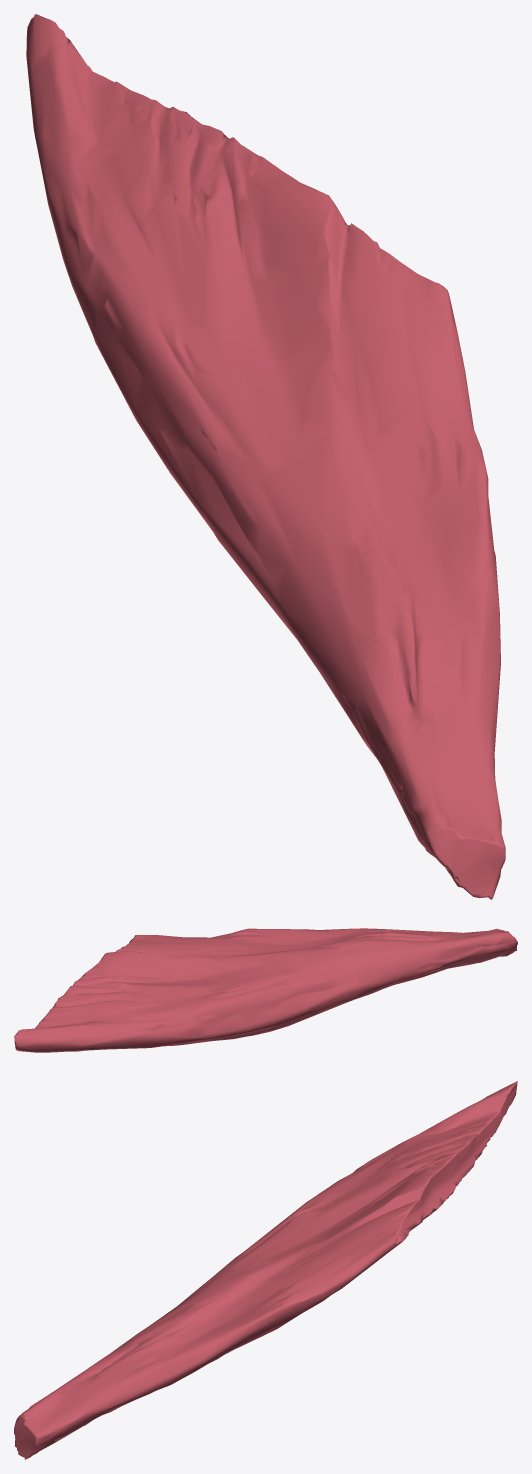
The picture shows the model from 3 angles, top to bottom: view 1: azimuth 30°, elevation 25°; view 2: azimuth 150°, elevation 25°; view 3: azimuth 330°, elevation 25°; orthographic projection. The views are drawn at different scales.
Parts seen in each view (by area): view 1: 左侧长收肌; view 2: 左侧长收肌; view 3: 左侧长收肌.
Part boxes in pixels (bbox=[...]): 左侧长收肌: bbox=[26, 14, 505, 899]; 左侧长收肌: bbox=[14, 928, 517, 1052]; 左侧长收肌: bbox=[14, 1081, 517, 1459].
Bounding box in the file's own units: 0.1224 × 0.0881 × 0.3902.
